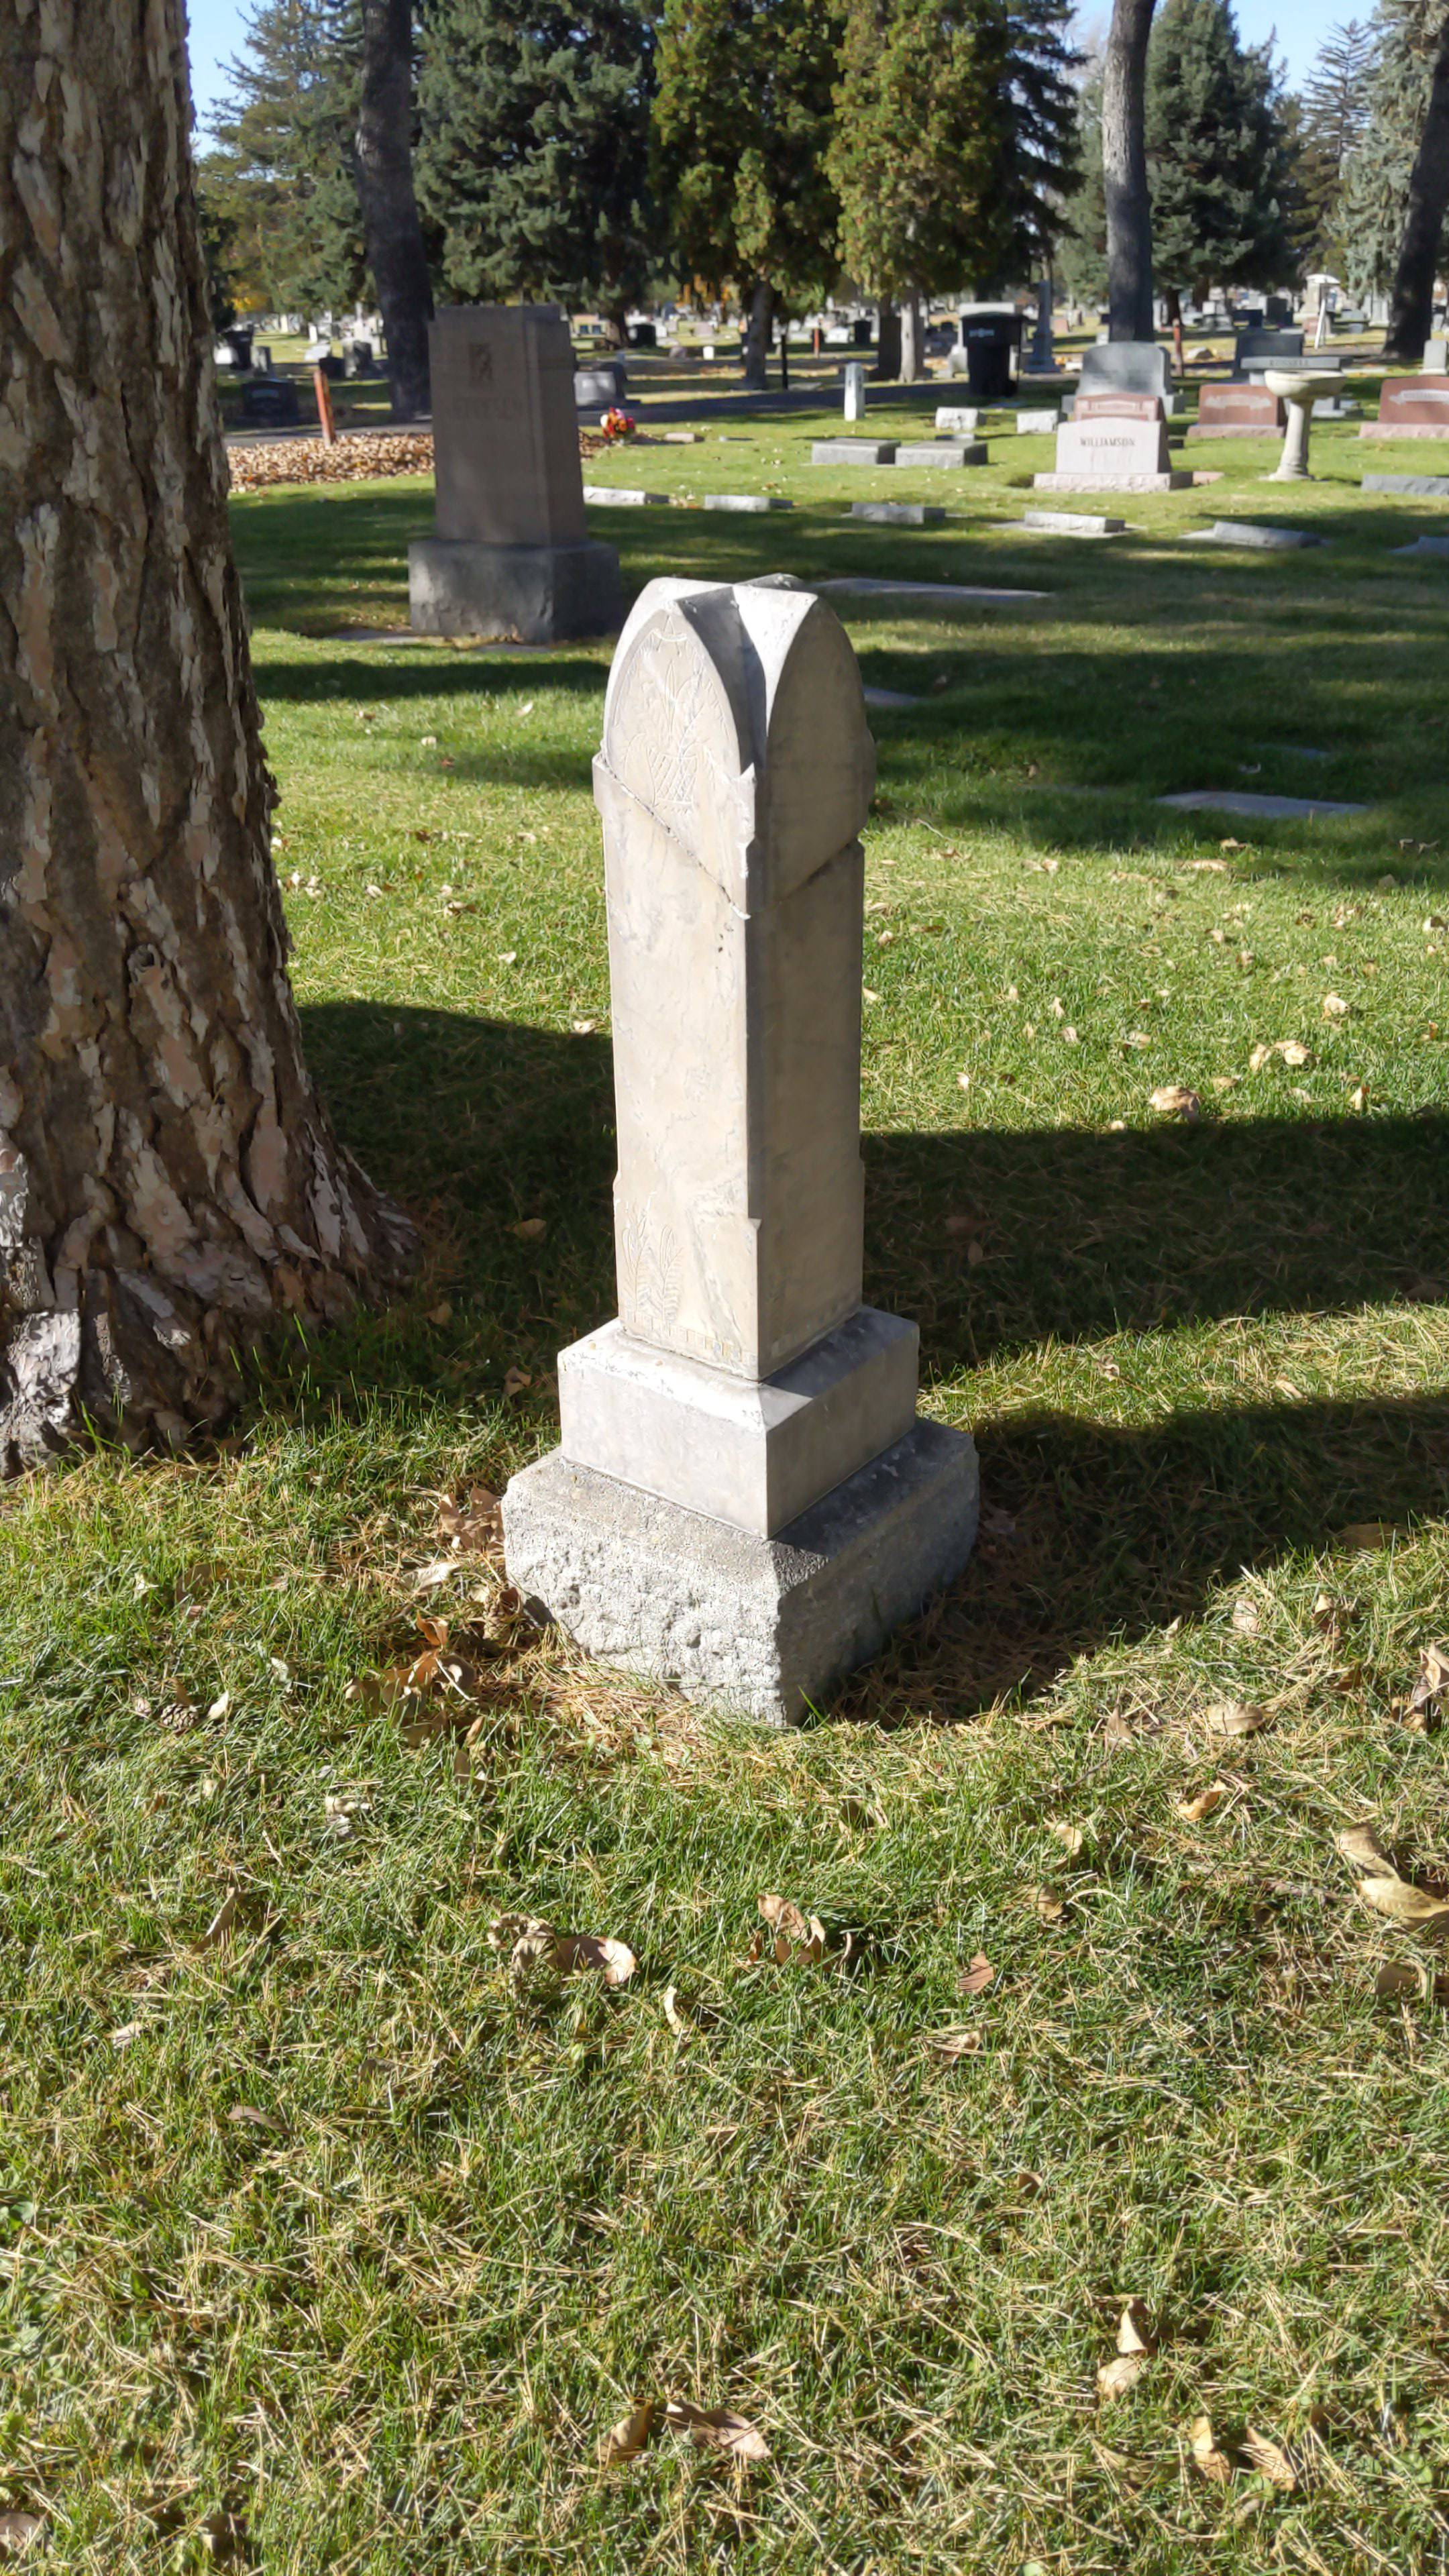obelisk: (538, 580, 924, 1543)
